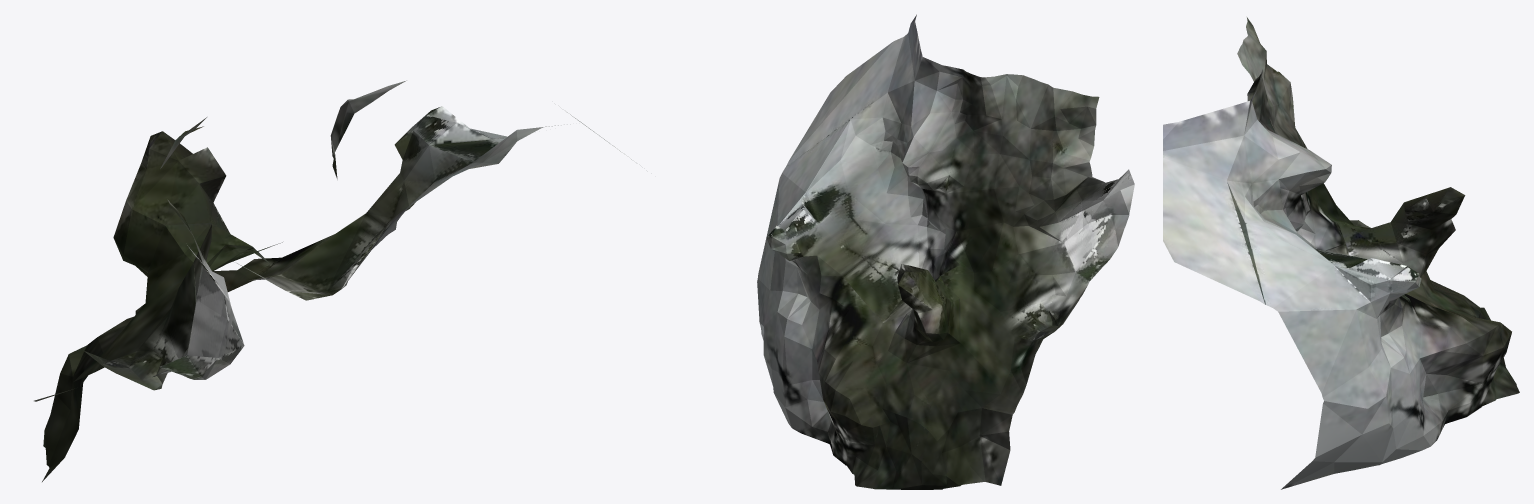
The picture shows the model from 3 angles, left to right: view 1: azimuth 30°, elevation 25°; view 2: azimuth 150°, elevation 25°; view 3: azimuth 270°, elevation 25°; orthographic projection. The views are drawn at different scales.
Bounding box in the file's own units: 1.67 × 1.67 × 1.67.
4 materials, 4 textured.
